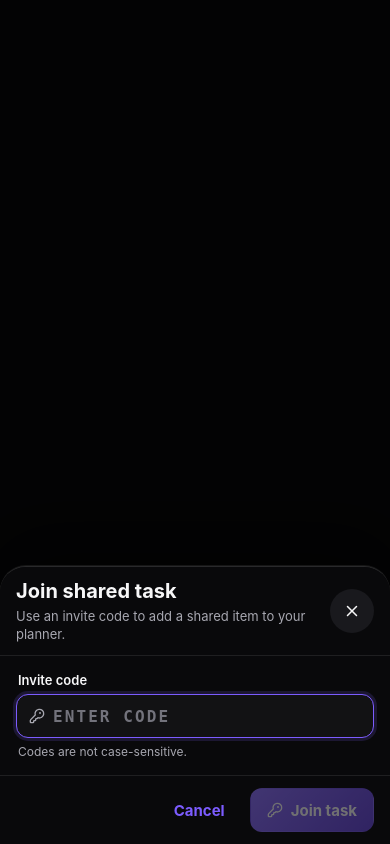
joins a shared task using an invite code
The width and height of the screenshot is (390, 844).
Type "abc2345" into the field labelled "Invite code". click: (207, 716)
box: [53, 695, 361, 737]
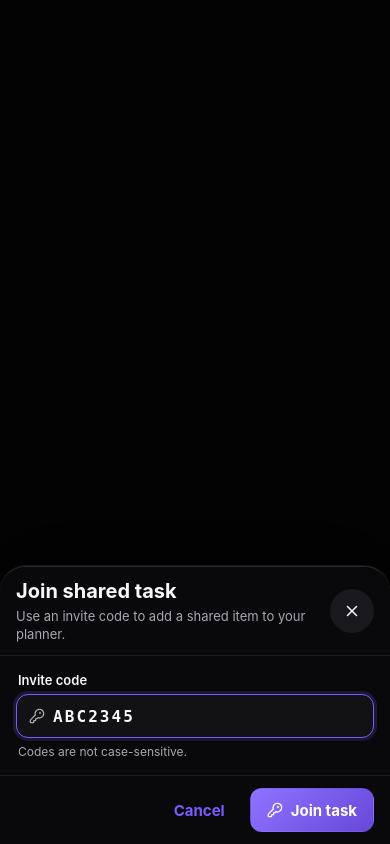
Click the button "Join task". click: (312, 810)
box: [250, 788, 374, 832]
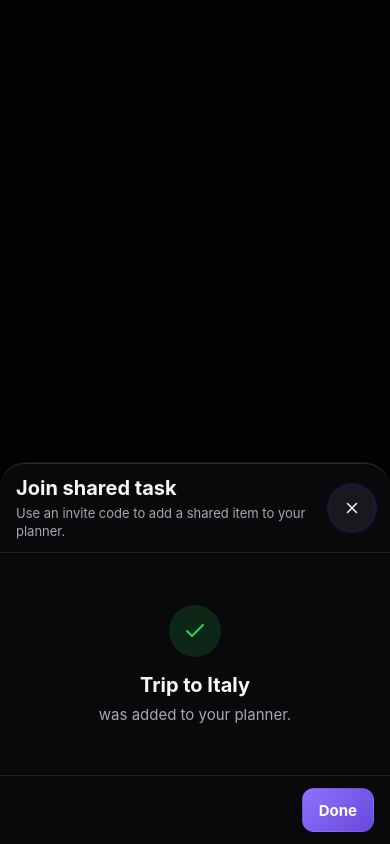
expect the message shows "Trip to Italy": met, box [140, 672, 250, 696]
expect the text "was added to your planner." is shown: met, box [99, 704, 291, 724]
